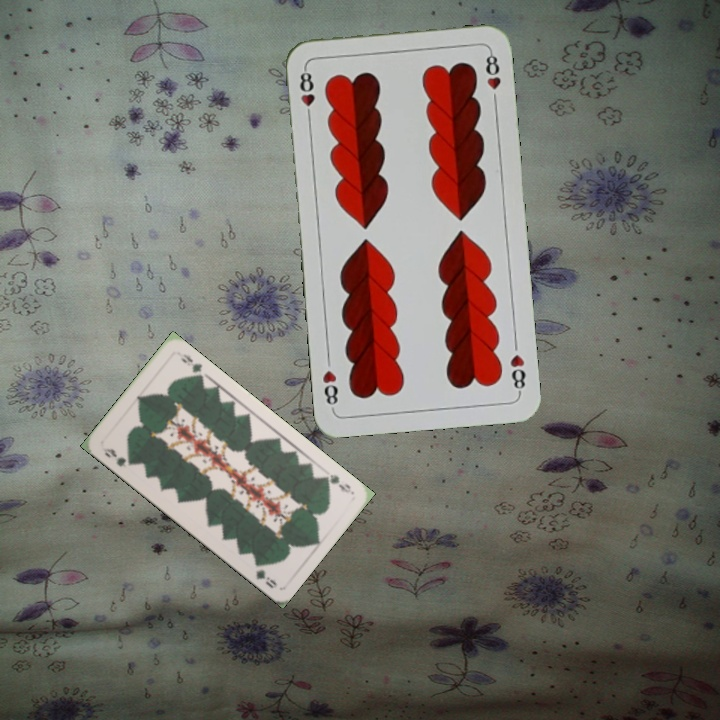G9: (98, 443, 136, 471), (319, 470, 355, 496)
H8: (295, 64, 317, 123), (506, 350, 528, 396)
